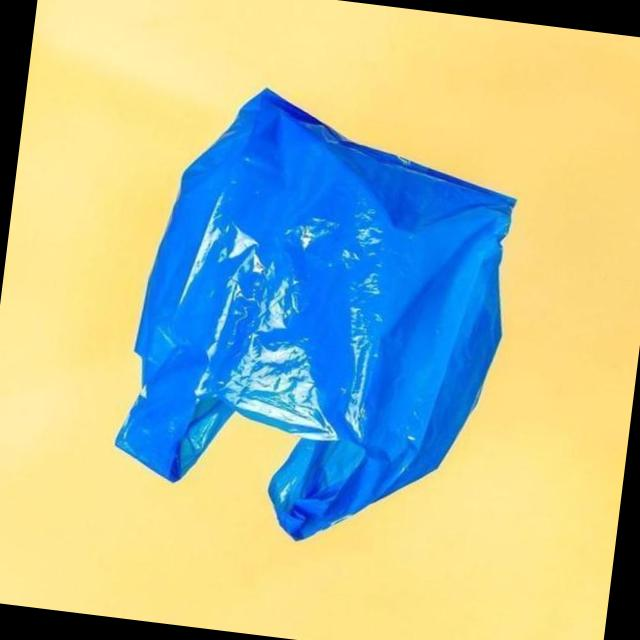KantongPlastik: (103, 74, 530, 564)
